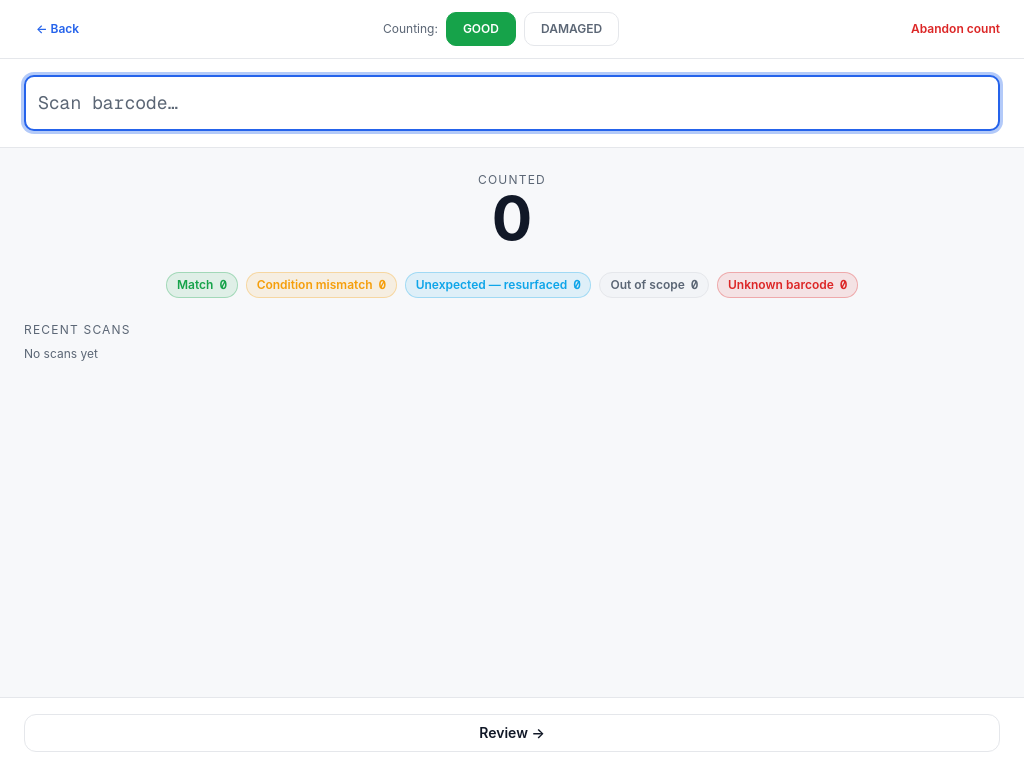
Test: FR-21 Step 6.3 — Stock Take Scan screen › sts5 — unscan removes the entry and decrements counted
Type "PC-ABC123" into the field with placeholder "Scan barcode…" at x=512, y=103, box [24,75,1000,131]
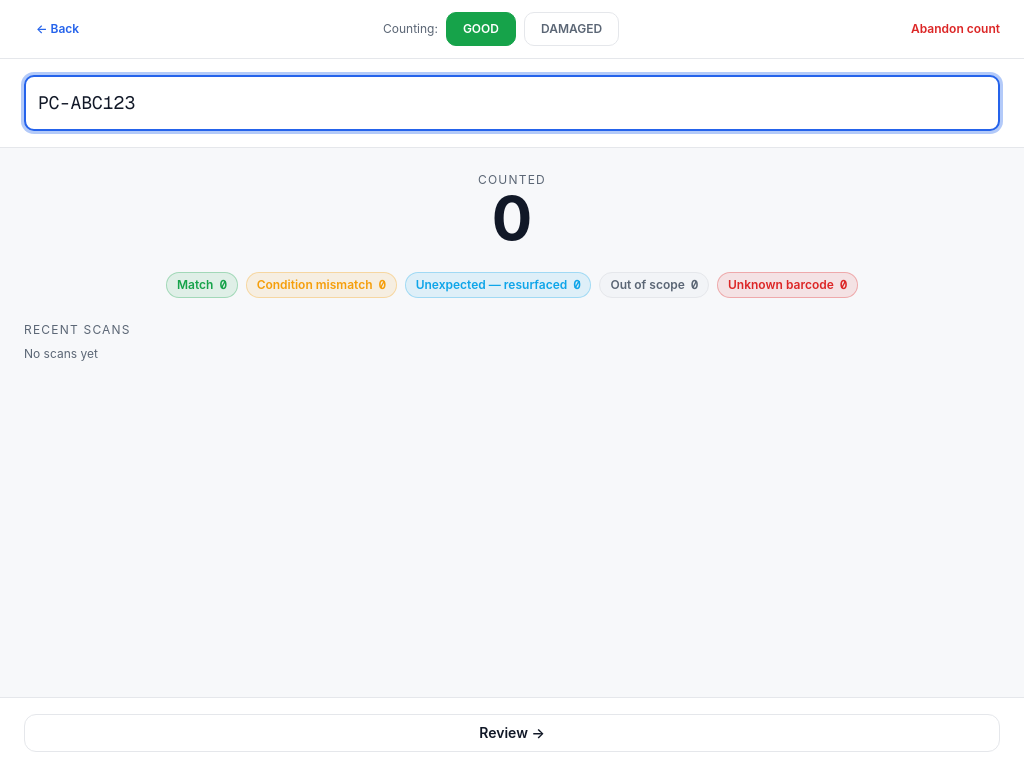
Press Enter
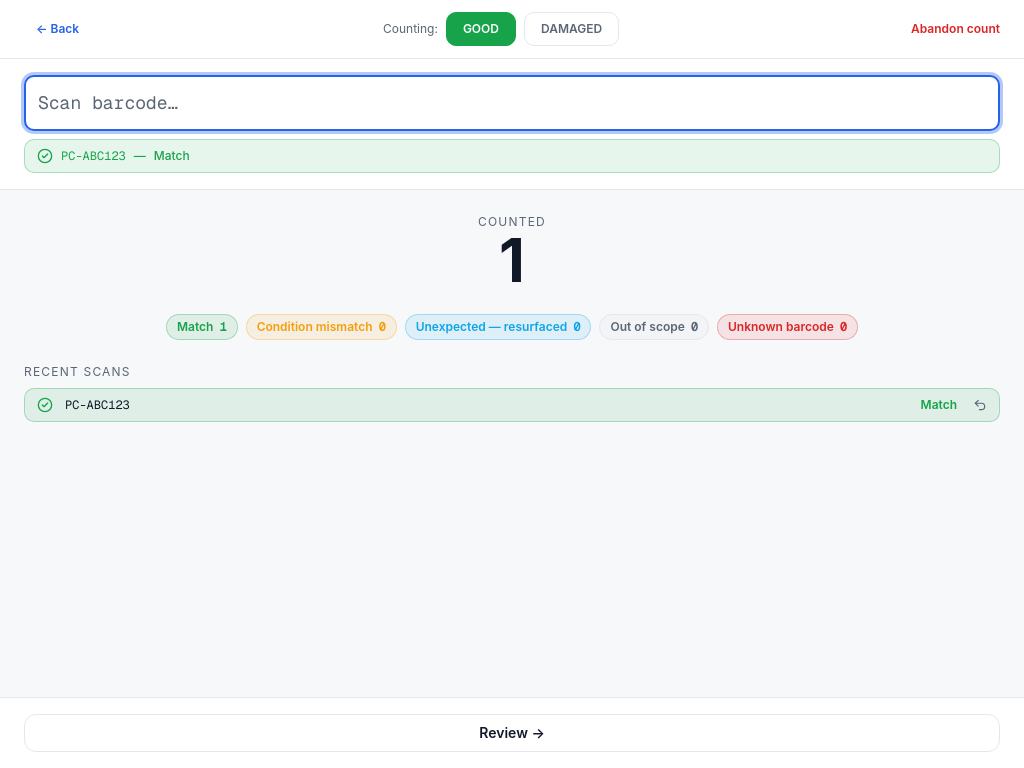
Result: the text with test id "counted-display" reads "1" at [499,224,525,296]
Click the button titled "Unscan" at x=980, y=405, box [973,398,987,412]
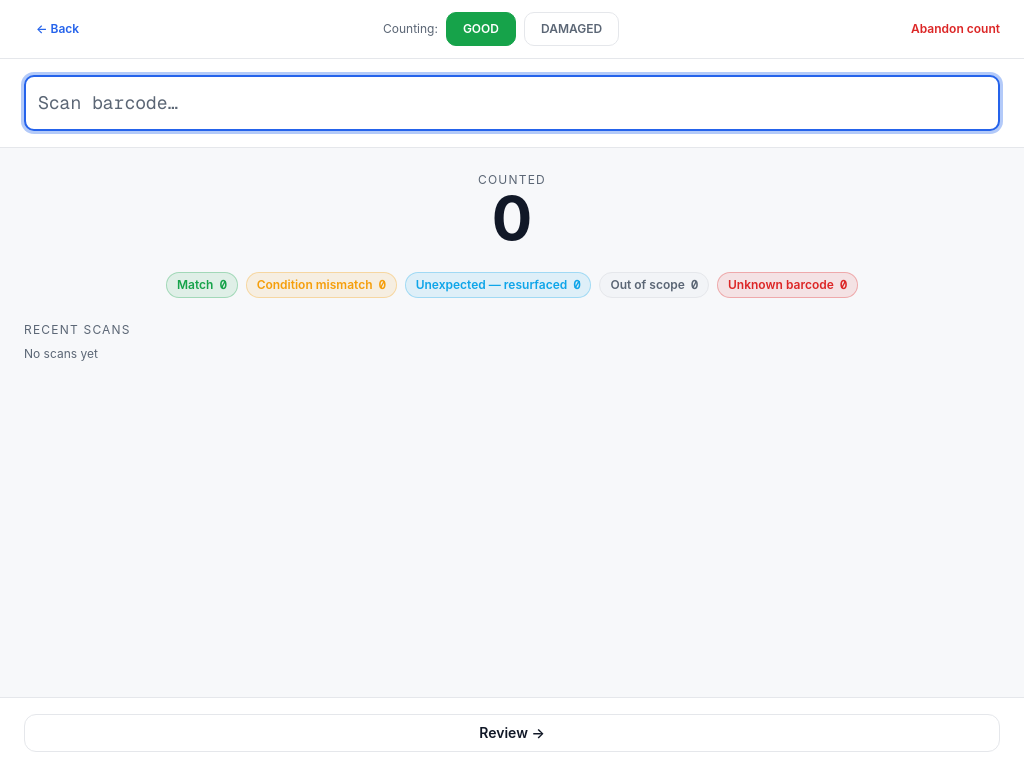
Result: the text with test id "counted-display" reads "0" at [492,182,532,254]
